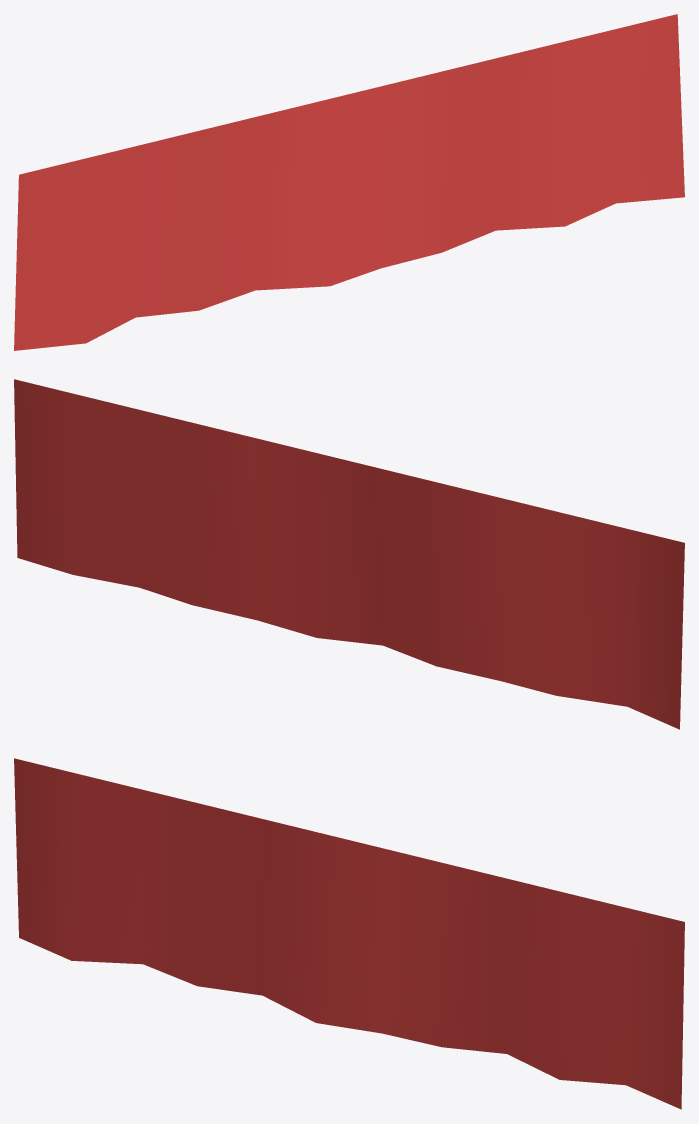
File: Curtains_004.glb
3 renders of one model, top to bottom at view 1: azimuth 30°, elevation 25°; view 2: azimuth 150°, elevation 25°; view 3: azimuth 330°, elevation 25°, orthographic.
Visible parts, largest first — view 1: Curtains_004; view 2: Curtains_004; view 3: Curtains_004.
Part boxes in pixels (x1,y1,x2,y2): Curtains_004: (14,14,684,350); Curtains_004: (14,379,684,729); Curtains_004: (14,758,684,1109).
Size of the model in its own units: 3 by 0.7888 by 0.0968.
Materials: 1 (1 with a texture image).
